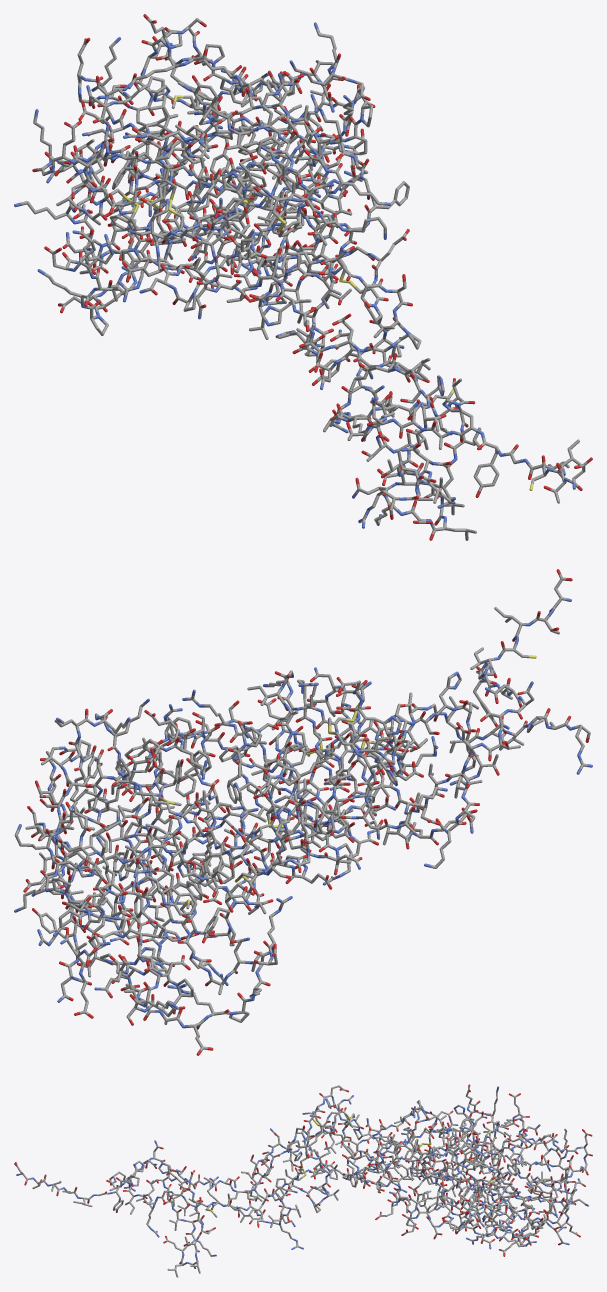
File: influenza-sticks.glb
The picture shows the model from 3 angles, top to bottom: view 1: azimuth 30°, elevation 25°; view 2: azimuth 150°, elevation 25°; view 3: azimuth 270°, elevation 25°; orthographic projection. The views are drawn at different scales.
Parts seen in each view (by area): view 1: influenza-sticks; view 2: influenza-sticks; view 3: influenza-sticks.
Boxes of the visible parts, x1,y1,x2,y2 form: influenza-sticks: (14, 14, 592, 540); influenza-sticks: (14, 569, 592, 1055); influenza-sticks: (14, 1084, 592, 1277).
Size of the model in its own units: 43.4 by 41.52 by 122.
